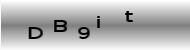9: (76, 26, 92, 40)
B: (52, 18, 68, 33)
D: (27, 25, 43, 39)
i: (96, 13, 101, 29)
t: (123, 10, 135, 23)
